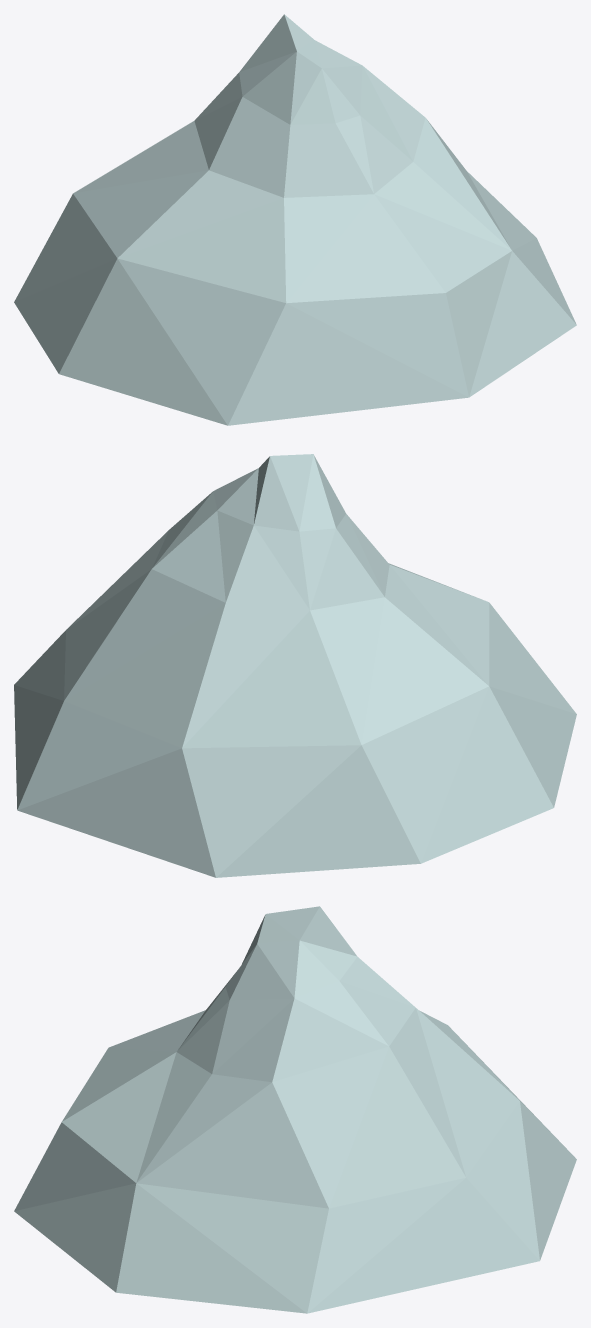
File: deposit-salt.fbx
3 renders of one model, top to bottom at view 1: azimuth 30°, elevation 25°; view 2: azimuth 150°, elevation 25°; view 3: azimuth 270°, elevation 25°, orthographic. The views are drawn at different scales.
Visible parts, largest first — view 1: deposit-salt; view 2: deposit-salt; view 3: deposit-salt.
Boxes of the visible parts, left/top/right/bottom form: deposit-salt: left=14, top=14, right=576, bottom=425; deposit-salt: left=14, top=454, right=576, bottom=877; deposit-salt: left=14, top=906, right=576, bottom=1313.
Bounding box in the file's own units: 1.25 × 0.6895 × 1.21.
